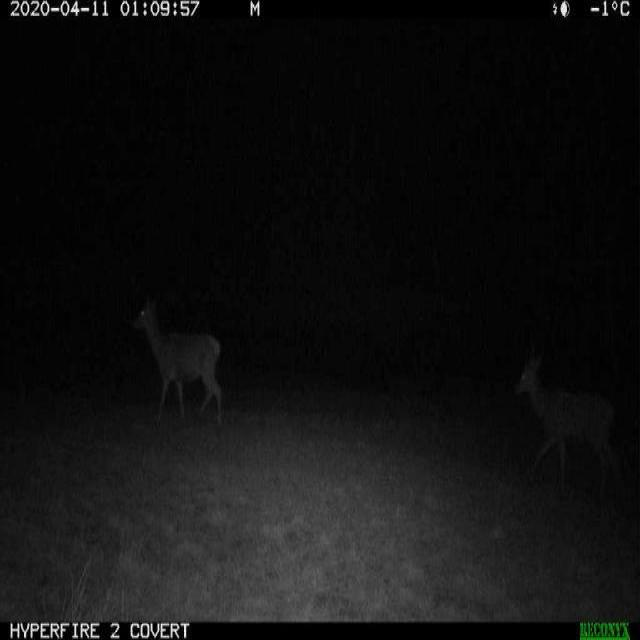deer: (500, 339, 622, 521), (120, 282, 227, 438)
